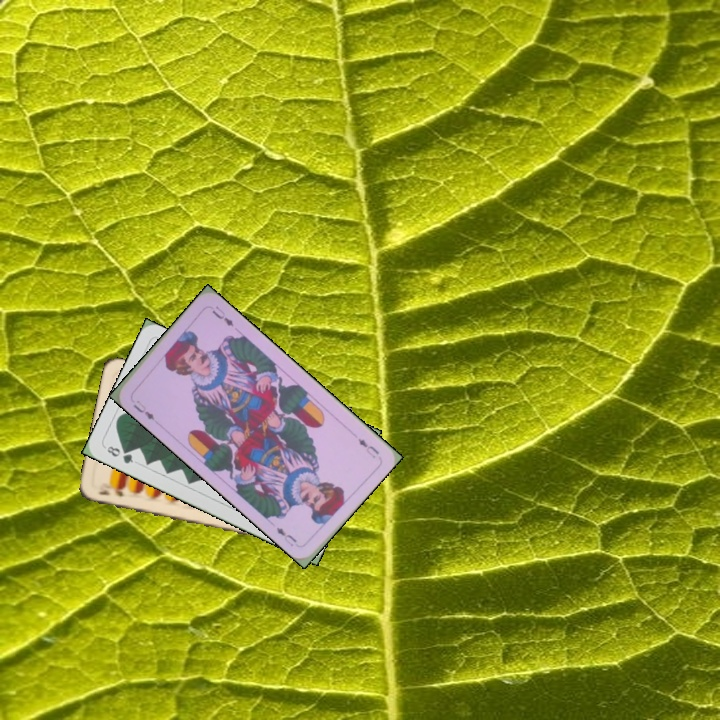E10: (95, 484, 128, 499)
EU: (129, 396, 157, 423), (354, 434, 382, 461)
G8: (101, 442, 136, 466)
